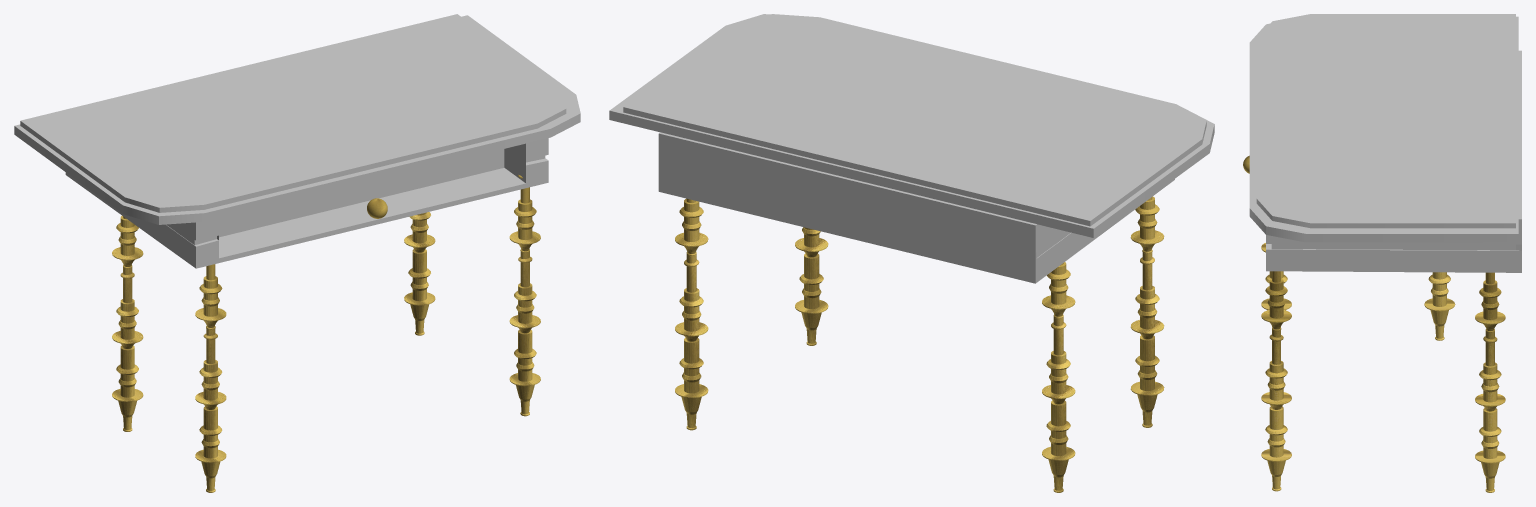
Rendered from Desk 1 for butlers room.fbx.
3 views of the same model, side by side, from view 1: azimuth 30°, elevation 25°; view 2: azimuth 150°, elevation 25°; view 3: azimuth 270°, elevation 25° (orthographic). The views are drawn at different scales.
Visible parts, largest first — view 1: pCube1135, pCube1134, pCube1133, pCylinder199, pCylinder200, pCylinder201, pCylinder202; view 2: pCube1135, pCube1134, pCube1133, pCylinder202, pCylinder201, pCylinder200, pCylinder199; view 3: pCube1135, pCube1134, pCube1133, pCylinder202, pCylinder199, pCylinder201.
Part boxes in pixels (left/top/right/bottom): pCube1135: left=20, top=14, right=566, bottom=212; pCube1134: left=65, top=138, right=548, bottom=268; pCube1133: left=14, top=15, right=580, bottom=224; pCylinder199: left=509, top=175, right=540, bottom=416; pCylinder200: left=195, top=264, right=226, bottom=492; pCylinder201: left=112, top=215, right=143, bottom=431; pCylinder202: left=404, top=212, right=435, bottom=335; pCube1135: left=623, top=14, right=1206, bottom=226; pCube1134: left=658, top=132, right=1174, bottom=283; pCube1133: left=609, top=14, right=1214, bottom=237; pCylinder202: left=675, top=198, right=708, bottom=430; pCylinder201: left=1042, top=262, right=1075, bottom=492; pCylinder200: left=1130, top=196, right=1164, bottom=427; pCylinder199: left=795, top=227, right=828, bottom=345; pCube1135: left=1256, top=14, right=1515, bottom=228; pCube1134: left=1266, top=50, right=1521, bottom=272; pCube1133: left=1249, top=16, right=1518, bottom=242; pCylinder202: left=1475, top=272, right=1505, bottom=492; pCylinder199: left=1261, top=271, right=1291, bottom=491; pCylinder201: left=1424, top=272, right=1455, bottom=340.
Size of the model in its own units: 216 by 136 by 117.
